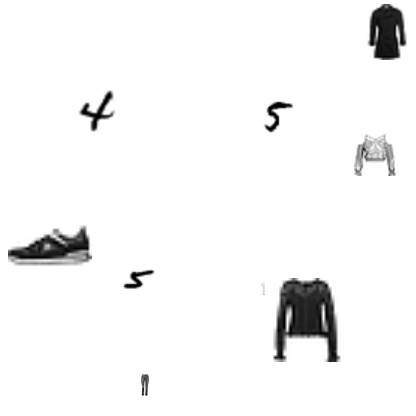4: (69, 83, 125, 139)
5: (115, 257, 157, 299), (255, 93, 297, 135)
Coat: (358, 4, 414, 60)
Shirt: (265, 278, 349, 362), (354, 134, 396, 176)
Sneaker: (8, 202, 92, 286)
T-shirt/top: (259, 281, 273, 295)
Trouser: (134, 374, 156, 396)
